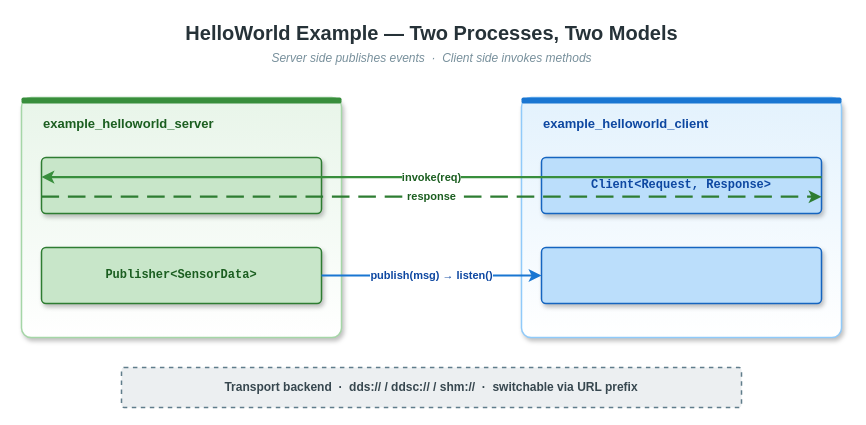
Some shapes in this 866 by 425 pixel diagram are drawn without their labels. Each missing label, with the centre of its shape:
"Server<Request, Response>" belongs at pixel 182 186.
"Subscriber<SensorData>" belongs at pixel 682 276.
